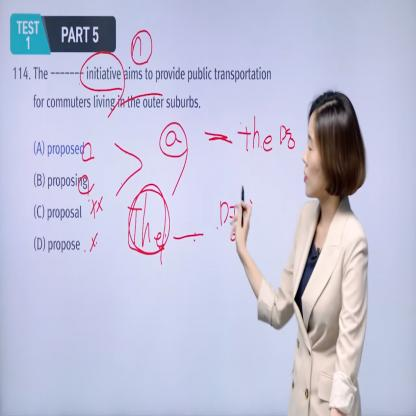streamer: (229, 89, 369, 416)
